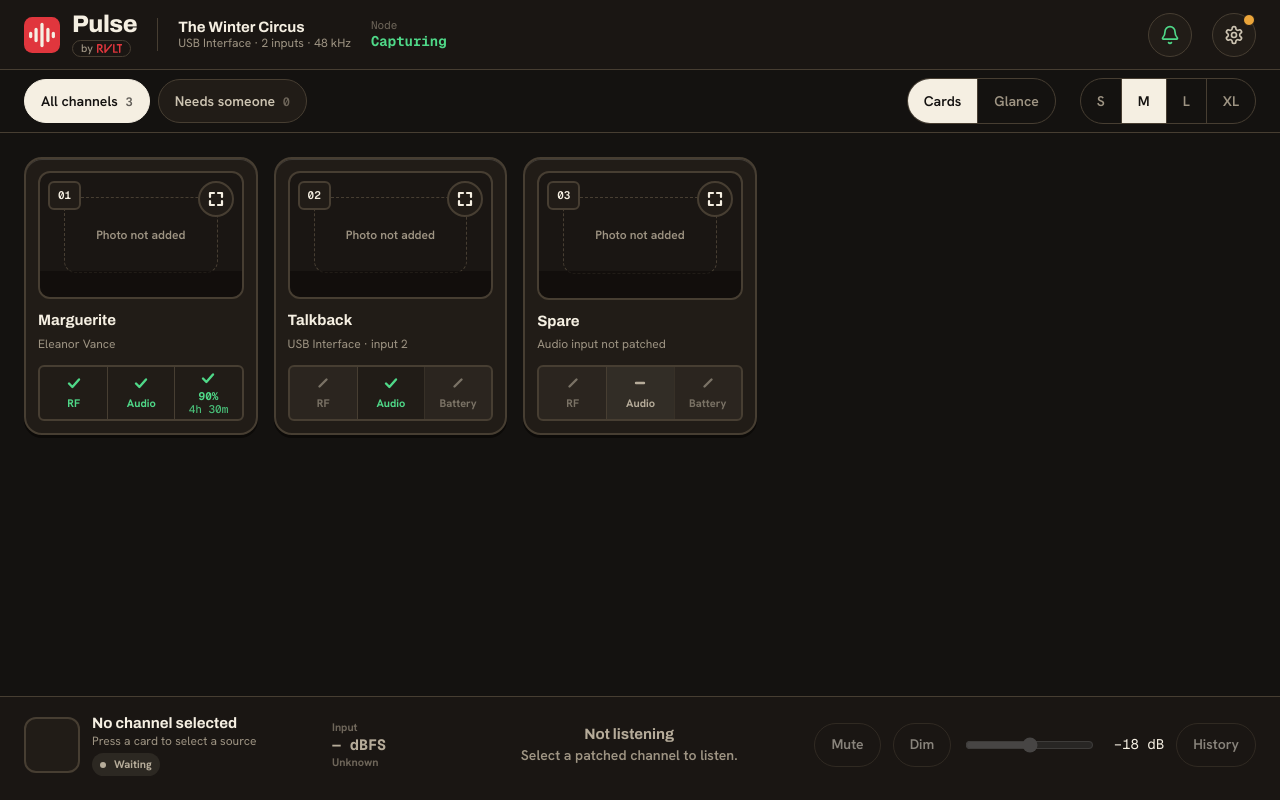
it: Live channel grid › keeps the rarely changed settings in one header menu
Click the button named "Settings. Needs your attention" at (1234, 34), box [1212,12,1256,56]
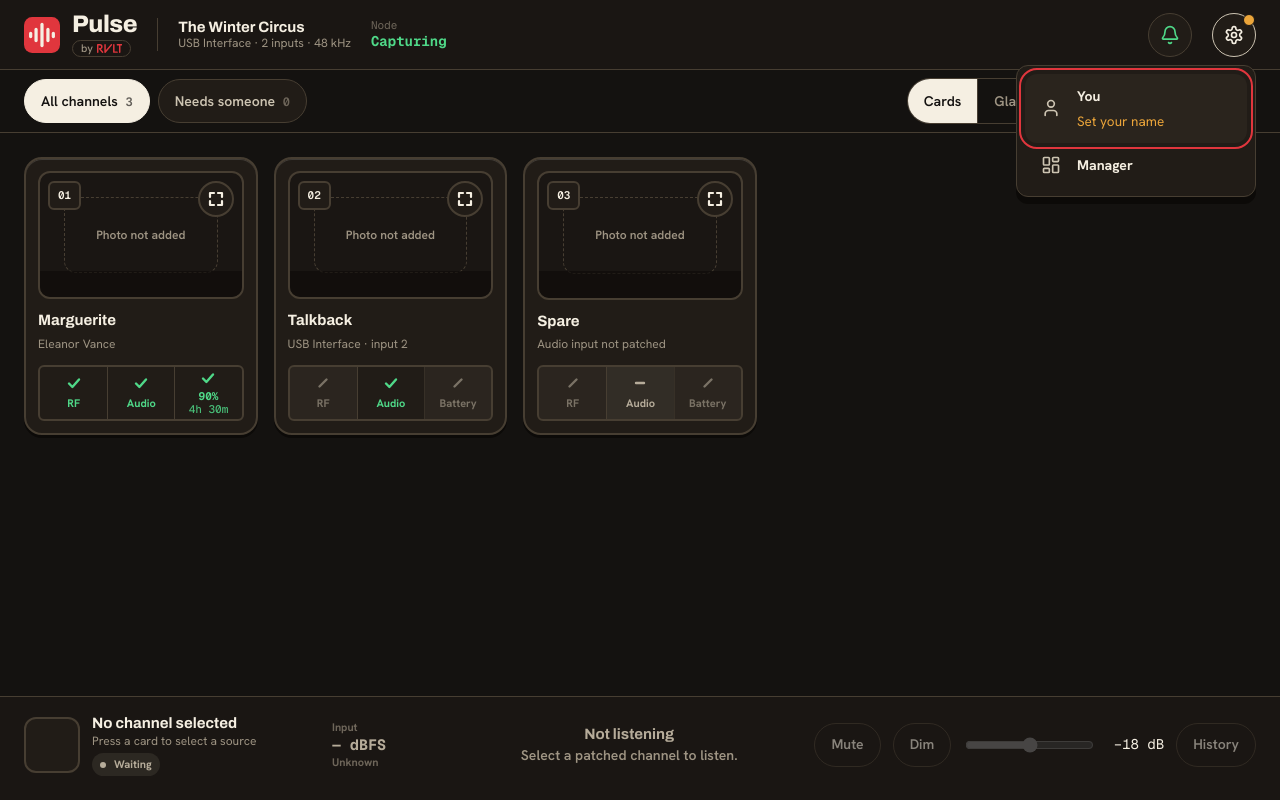
Check: the button named "Settings. Needs your attention" is expanded, box [1212,12,1256,56]
Check: the menu item "You Set your name" is shown, box [1025,74,1247,143]
Press Arrowdown
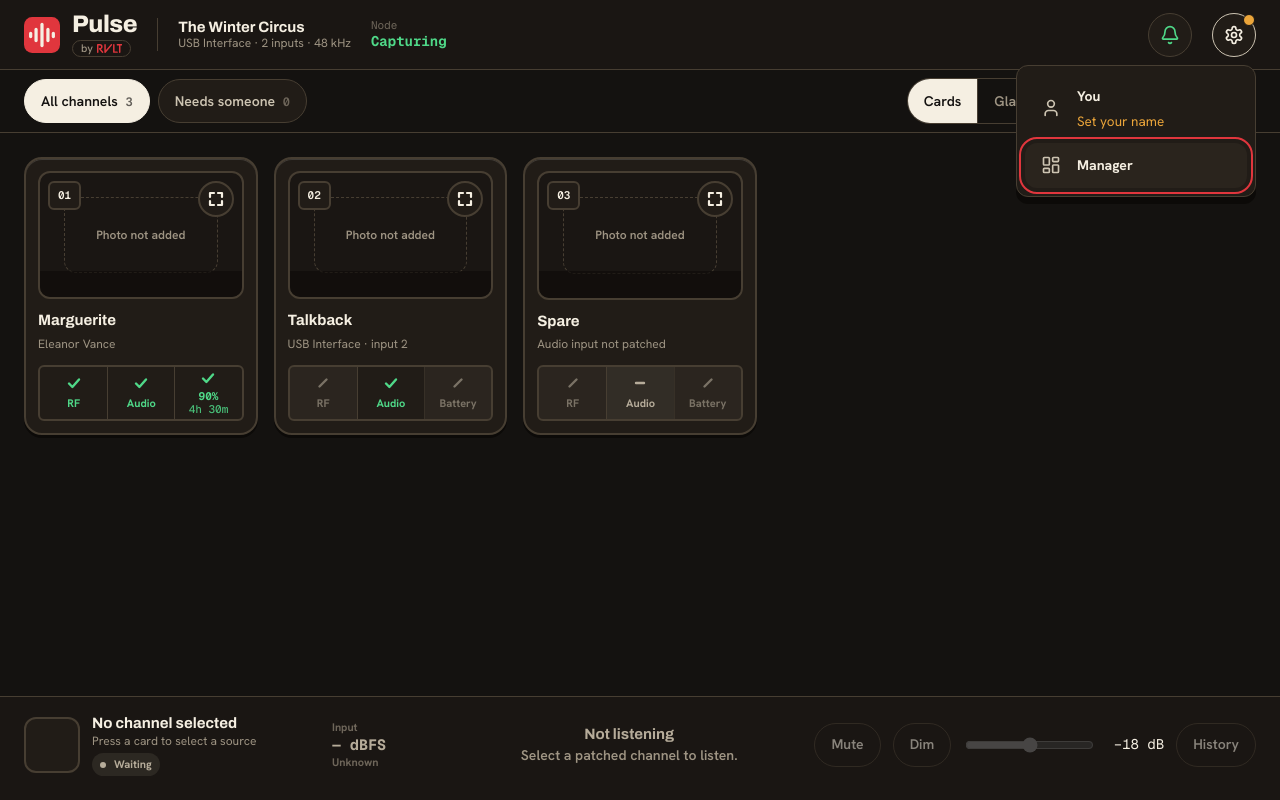
Press Escape
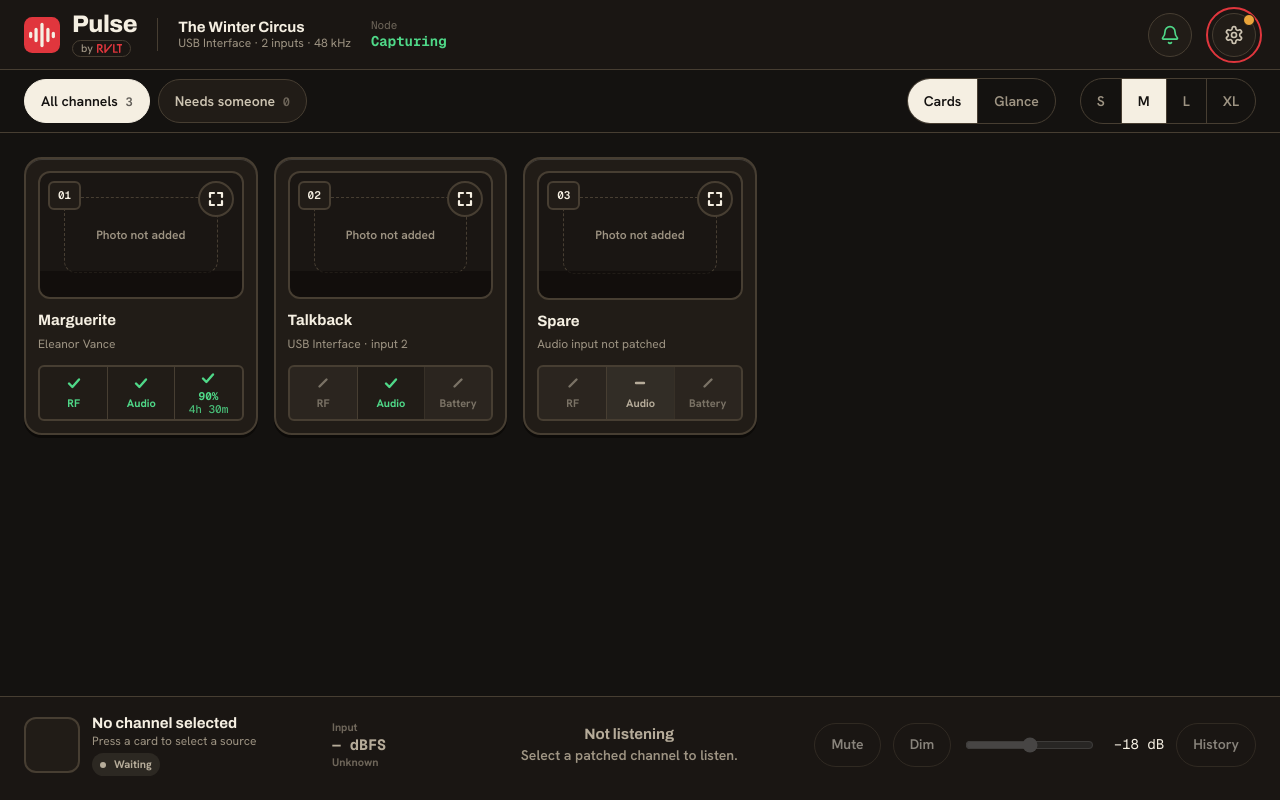
Check: the menu is gone
Click the button named "Settings. Needs your attention" at (1234, 34), box [1212,12,1256,56]
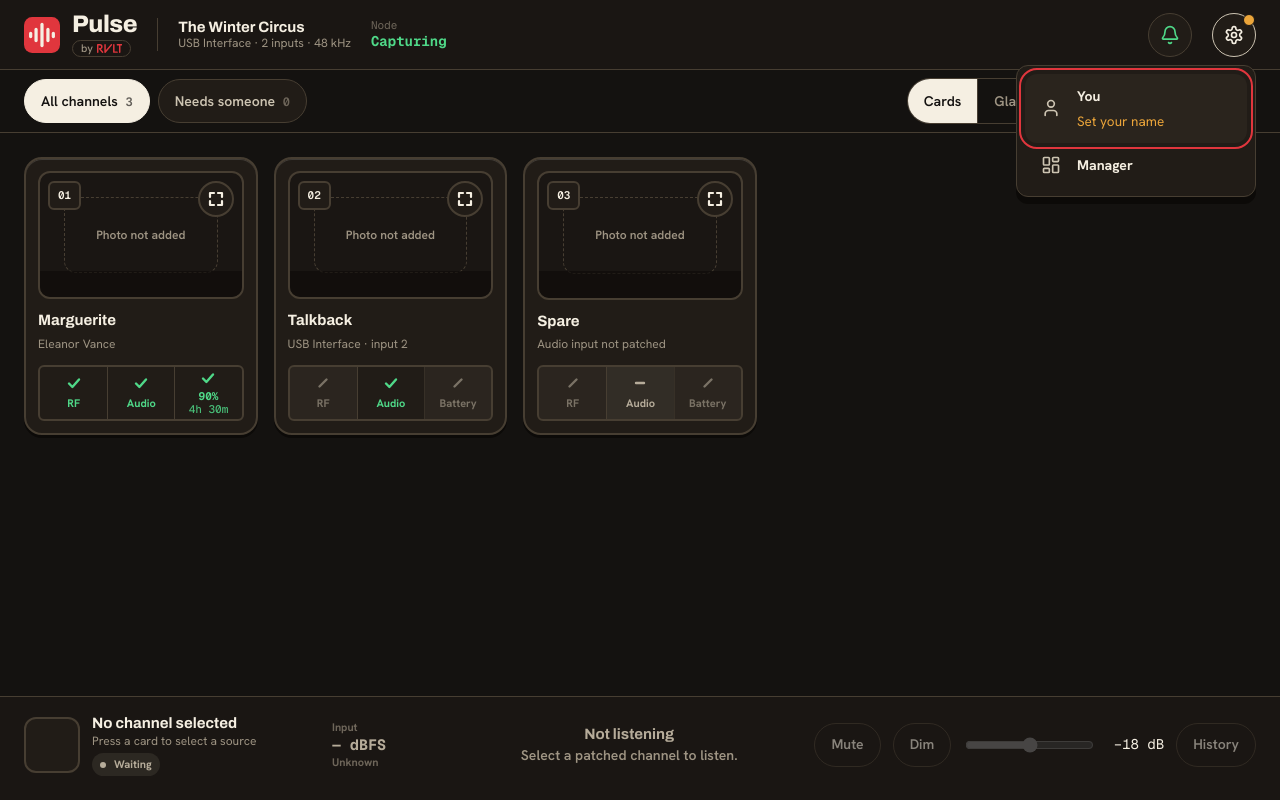
Click the menu item "You Set your name" at (1136, 108), box [1025,74,1247,143]
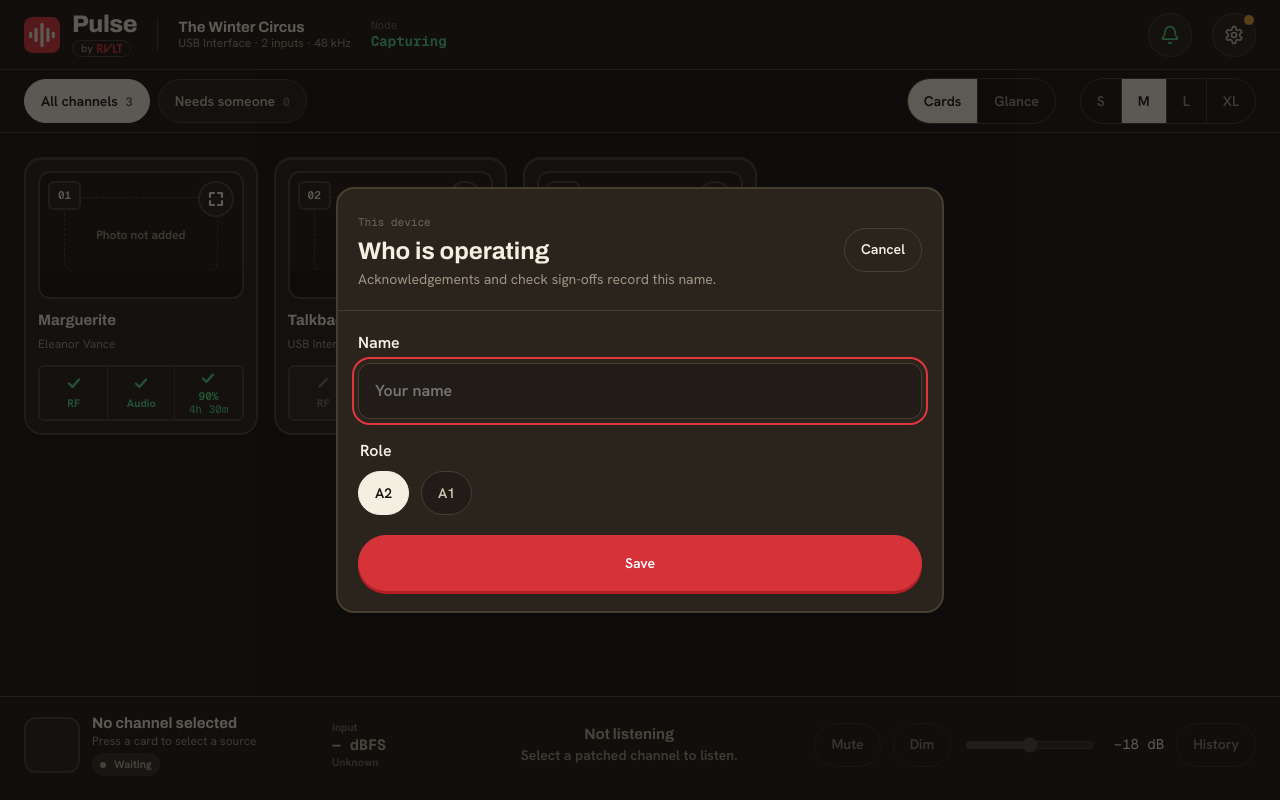
Check: the menu is gone
Check: the dialog is shown, box [336,187,944,613]
